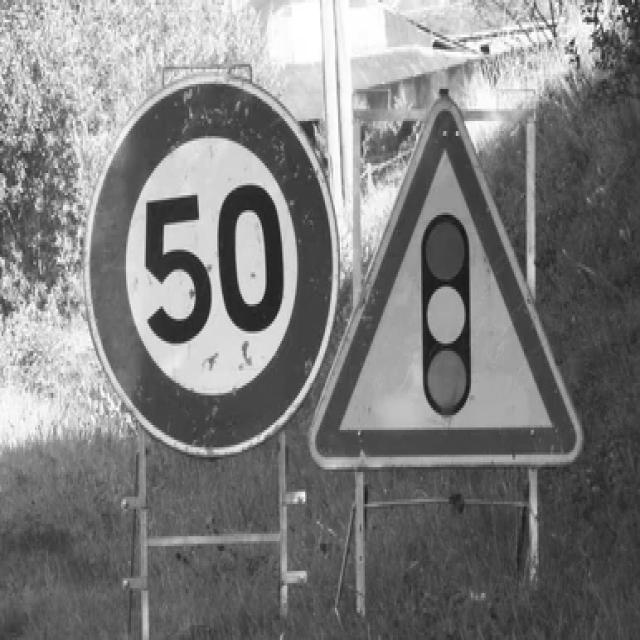danger: (311, 99, 588, 462)
speed_50: (80, 74, 342, 461)
